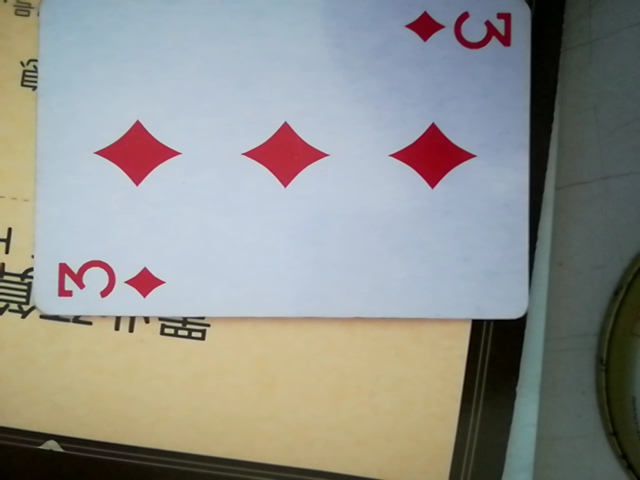fk 3: (30, 0, 536, 325)
